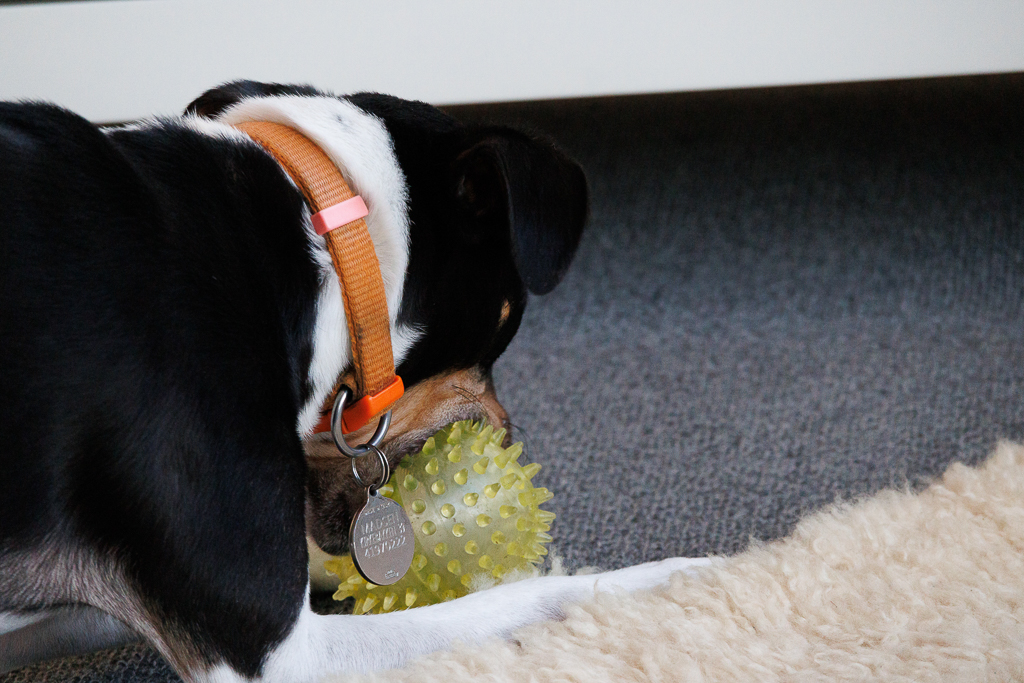Dog: (0, 69, 757, 682)
